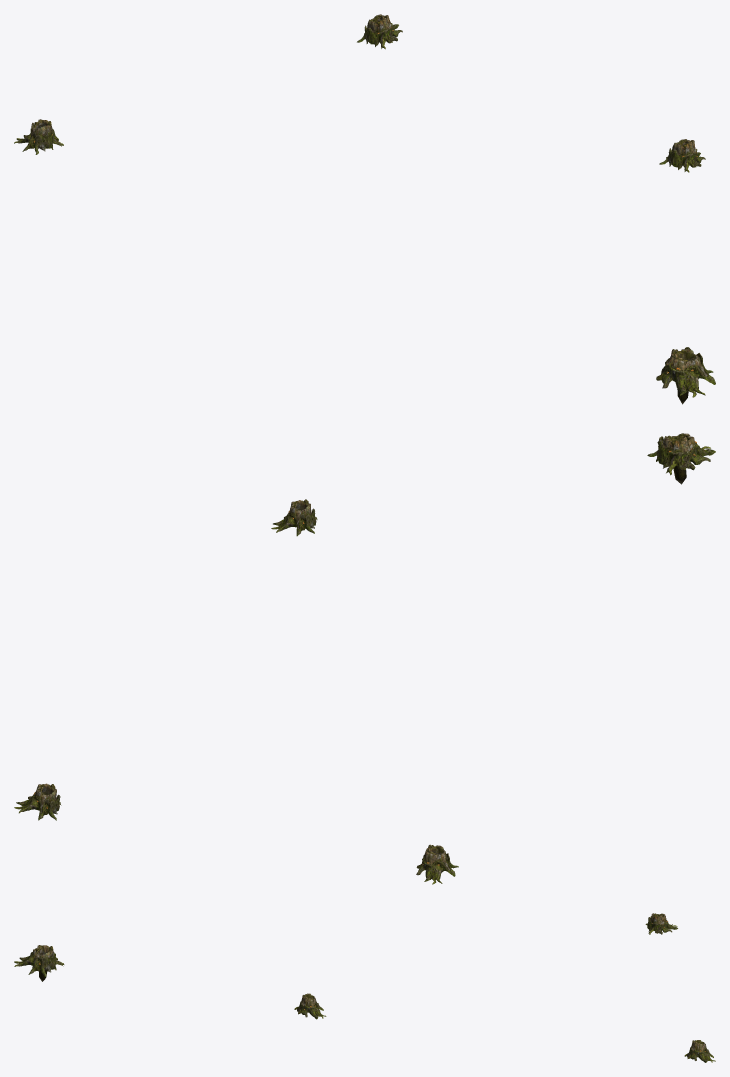
Rendered from stump.fbx.
The picture shows the model from 3 angles, top to bottom: view 1: azimuth 30°, elevation 25°; view 2: azimuth 150°, elevation 25°; view 3: azimuth 270°, elevation 25°; orthographic projection. The views are drawn at different scales.
Parts seen in each view (by area): view 1: m009012_0, m009011_0_1, m009011_0_2, m009011_0; view 2: m009012_0, m009011_0_1, m009011_0_2, m009011_0; view 3: m009012_0, m009011_0, m009011_0_2, m009011_0_1.
Boxes of the visible parts, left/top/right/bottom form: m009012_0: left=656, top=347, right=715, bottom=404; m009011_0_1: left=357, top=14, right=402, bottom=49; m009011_0_2: left=14, top=119, right=63, bottom=154; m009011_0: left=659, top=139, right=705, bottom=172; m009012_0: left=647, top=433, right=715, bottom=484; m009011_0_1: left=14, top=783, right=61, bottom=820; m009011_0_2: left=416, top=844, right=458, bottom=884; m009011_0: left=271, top=499, right=317, bottom=536; m009012_0: left=14, top=945, right=64, bottom=981; m009011_0: left=294, top=993, right=326, bottom=1019; m009011_0_2: left=645, top=913, right=677, bottom=934; m009011_0_1: left=684, top=1040, right=715, bottom=1062.
Size of the model in its own units: 206401 by 47280 by 420208.
Materials: 4 (4 with a texture image).
